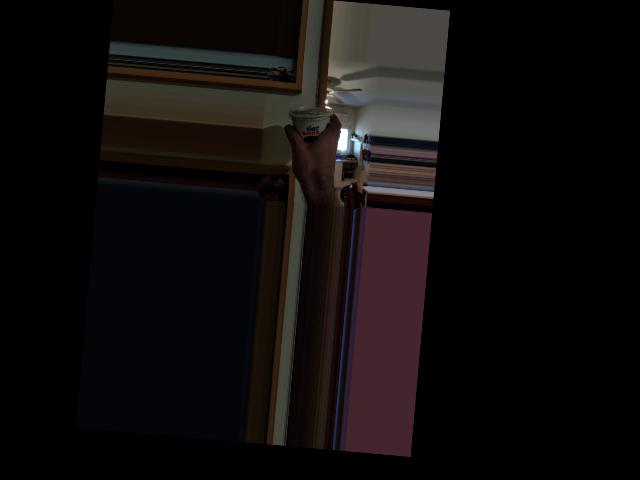cotage: (287, 101, 337, 155)
